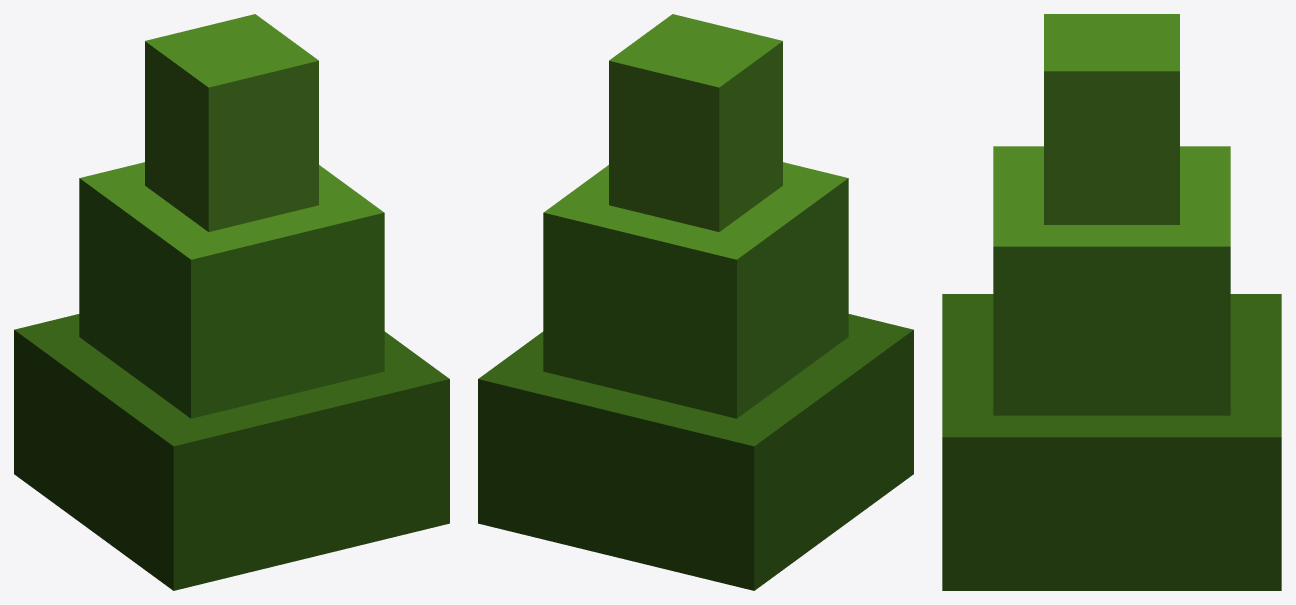
Rendered from grass_tuft.glb.
3 views of the same model, side by side, from view 1: azimuth 30°, elevation 25°; view 2: azimuth 150°, elevation 25°; view 3: azimuth 270°, elevation 25° (orthographic). The views are drawn at different scales.
Parts seen in each view (by area): view 1: GrassTuft; view 2: GrassTuft; view 3: GrassTuft.
Part boxes in pixels (x1,y1,x2,y2): GrassTuft: (14, 14, 449, 590); GrassTuft: (478, 14, 913, 590); GrassTuft: (942, 14, 1281, 590).
Bounding box in the file's own units: 0.4 × 0.62 × 0.4.
